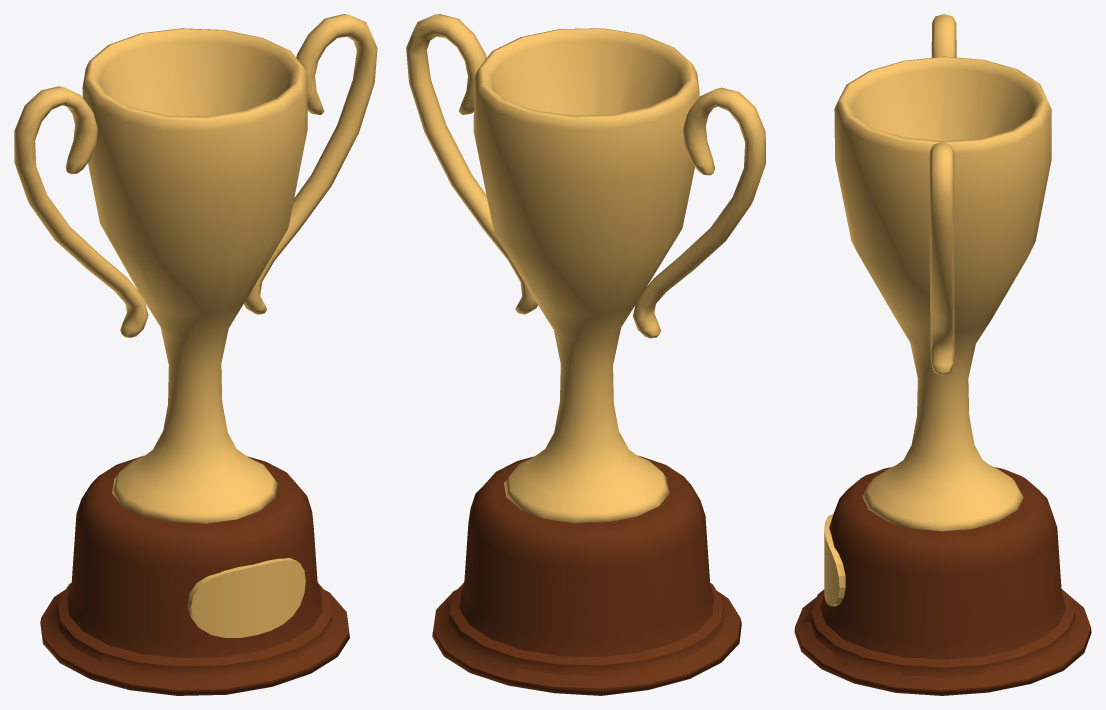
File: Cup.fbx
The picture shows the model from 3 angles, left to right: view 1: azimuth 30°, elevation 25°; view 2: azimuth 150°, elevation 25°; view 3: azimuth 270°, elevation 25°; orthographic projection. The views are drawn at different scales.
Visible parts, largest first — view 1: Cup; view 2: Cup; view 3: Cup.
Boxes of the visible parts, x1,y1,x2,y2 form: Cup: [14, 14, 377, 695]; Cup: [406, 14, 765, 695]; Cup: [794, 14, 1091, 695].
Size of the model in its own units: 30.21 by 47.44 by 22.77.
